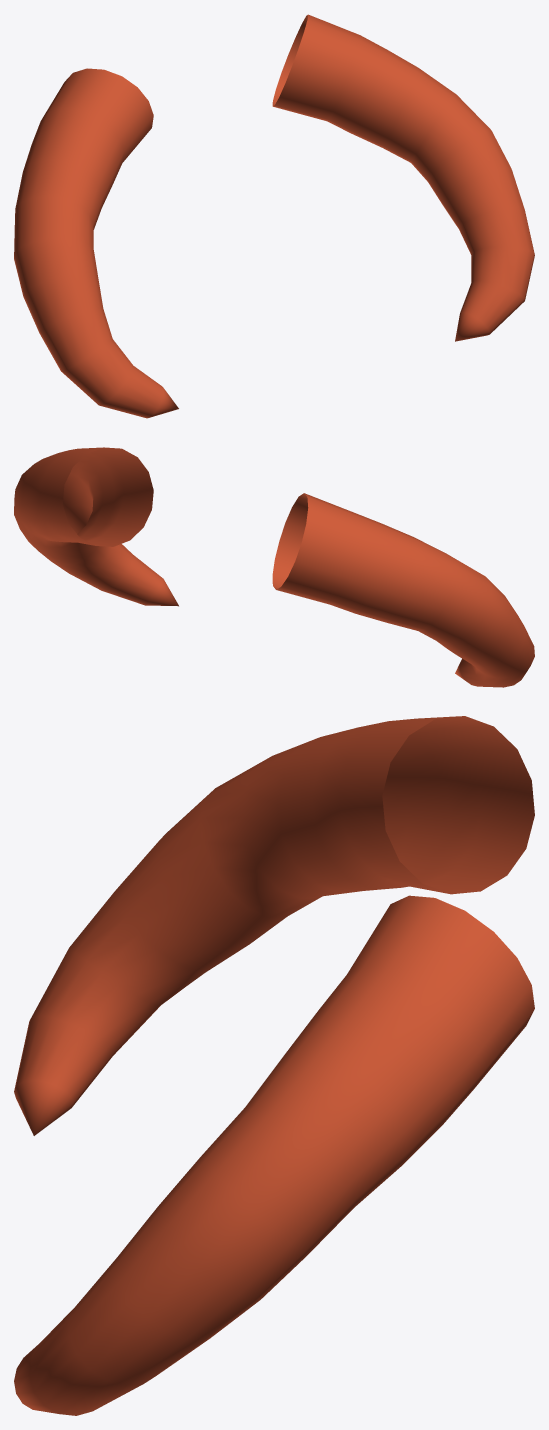
File: bullHorns.glb
The picture shows the model from 3 angles, top to bottom: view 1: azimuth 30°, elevation 25°; view 2: azimuth 150°, elevation 25°; view 3: azimuth 270°, elevation 25°; orthographic projection. The views are drawn at different scales.
Visible parts, largest first — view 1: BullHorns; view 2: BullHorns; view 3: BullHorns.
Part boxes in pixels (box(x1,y1,x2,y2)): BullHorns: box(14, 14, 534, 418); BullHorns: box(14, 447, 534, 687); BullHorns: box(14, 716, 534, 1415).
Bounding box in the file's own units: 1.24 × 0.6158 × 0.6411.
